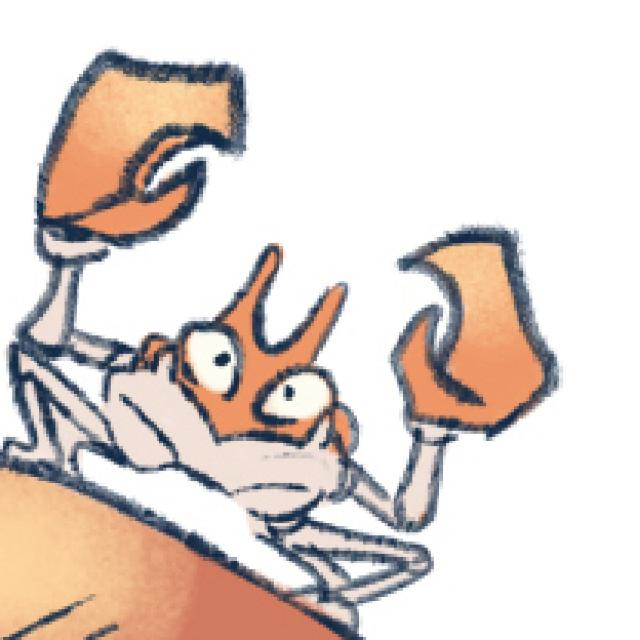Krabby: (0, 180, 581, 532)
